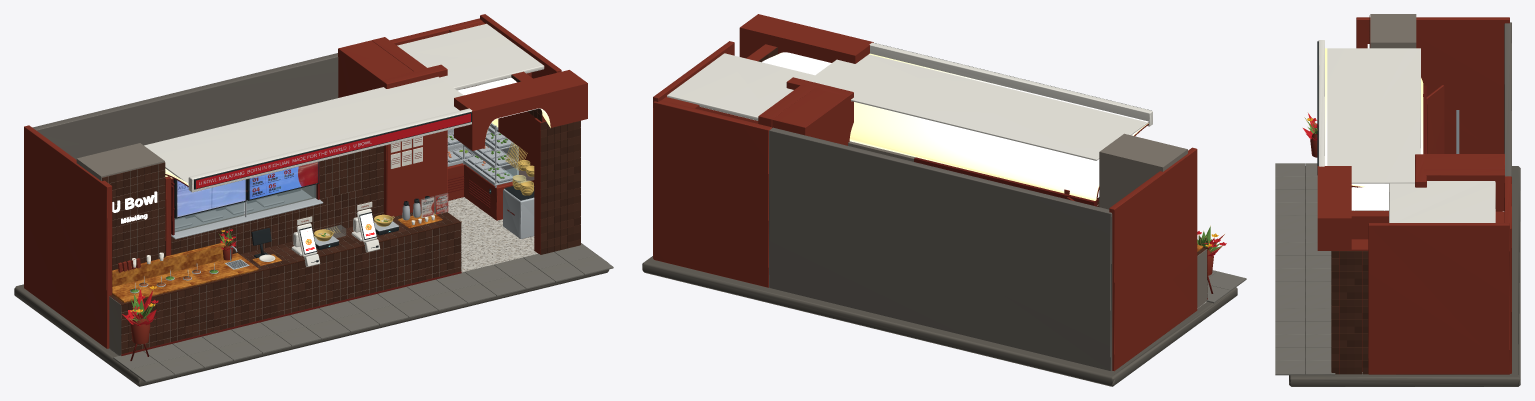
The model's file is UBowl_store.glb.
The picture shows the model from 3 angles, left to right: view 1: azimuth 30°, elevation 25°; view 2: azimuth 150°, elevation 25°; view 3: azimuth 270°, elevation 25°; orthographic projection. The views are drawn at different scales.
Parts seen in each view (by area): view 1: inferred_Shell, canopy_Assembly, floor_Assembly, counter_Assembly, entry_Assembly, service_Backwall, brand_Pier, condiment_Station, bowl_Station, service_Displays, ingredient_right_Assembly, service_Window (+8 smaller); view 2: inferred_Shell, canopy_Assembly, entry_Assembly, floor_Assembly, brand_Pier, service_Backwall, counter_Assembly, opening_Flowers; view 3: inferred_Shell, canopy_Assembly, floor_Assembly, entry_Assembly, brand_Pier, service_Door, opening_Flowers, bowl_Station, service_Backwall.
Boxes of the visible parts, left/top/right/bottom form: inferred_Shell: left=24, top=14, right=561, bottom=348; canopy_Assembly: left=144, top=23, right=587, bottom=192; floor_Assembly: left=14, top=197, right=613, bottom=386; counter_Assembly: left=109, top=206, right=461, bottom=355; entry_Assembly: left=338, top=18, right=580, bottom=254; service_Backwall: left=171, top=146, right=383, bottom=254; brand_Pier: left=76, top=143, right=165, bottom=270; condiment_Station: left=112, top=242, right=258, bottom=302; bowl_Station: left=498, top=111, right=535, bottom=238; service_Displays: left=173, top=161, right=319, bottom=218; ingredient_right_Assembly: left=461, top=118, right=518, bottom=220; service_Window: left=171, top=161, right=323, bottom=239; inferred_Shell: left=653, top=41, right=1197, bottom=371; canopy_Assembly: left=667, top=14, right=1152, bottom=201; entry_Assembly: left=653, top=44, right=853, bottom=287; floor_Assembly: left=642, top=256, right=1246, bottom=386; brand_Pier: left=1097, top=133, right=1187, bottom=209; service_Backwall: left=848, top=141, right=1097, bottom=206; counter_Assembly: left=1197, top=247, right=1207, bottom=307; opening_Flowers: left=1197, top=225, right=1226, bottom=293; inferred_Shell: left=1356, top=17, right=1511, bottom=374; canopy_Assembly: left=1317, top=40, right=1495, bottom=250; floor_Assembly: left=1275, top=163, right=1520, bottom=386; entry_Assembly: left=1331, top=154, right=1511, bottom=374; brand_Pier: left=1367, top=14, right=1416, bottom=48; service_Door: left=1423, top=85, right=1444, bottom=153; opening_Flowers: left=1303, top=113, right=1317, bottom=157; bowl_Station: left=1351, top=239, right=1368, bottom=371; service_Backwall: left=1423, top=85, right=1426, bottom=154.
Size of the model in its own units: 10.01 by 3.66 by 4.88.
Materials: 41 (8 with a texture image).
